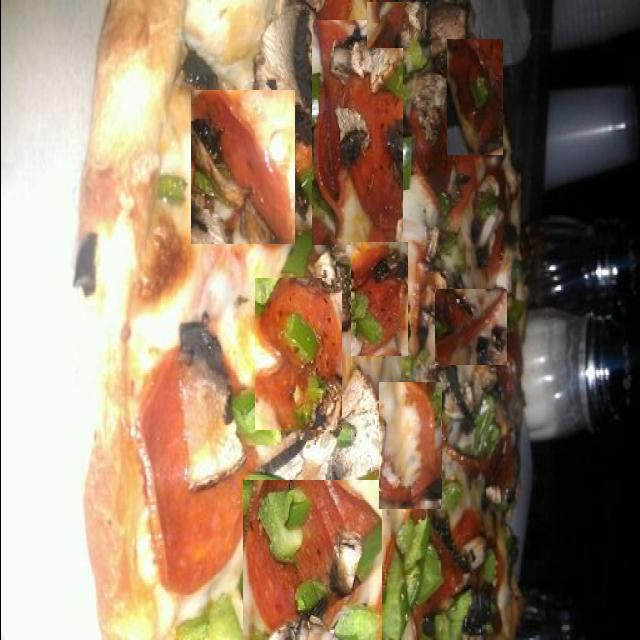pepperoni: (138, 348, 257, 594), (242, 480, 381, 640), (311, 20, 402, 245), (190, 90, 294, 244), (254, 278, 341, 431), (378, 382, 441, 509), (350, 242, 407, 356), (446, 40, 502, 156), (414, 109, 474, 217), (434, 289, 506, 365), (366, 2, 408, 48), (488, 430, 514, 502)
pizza: (77, 0, 530, 640)
